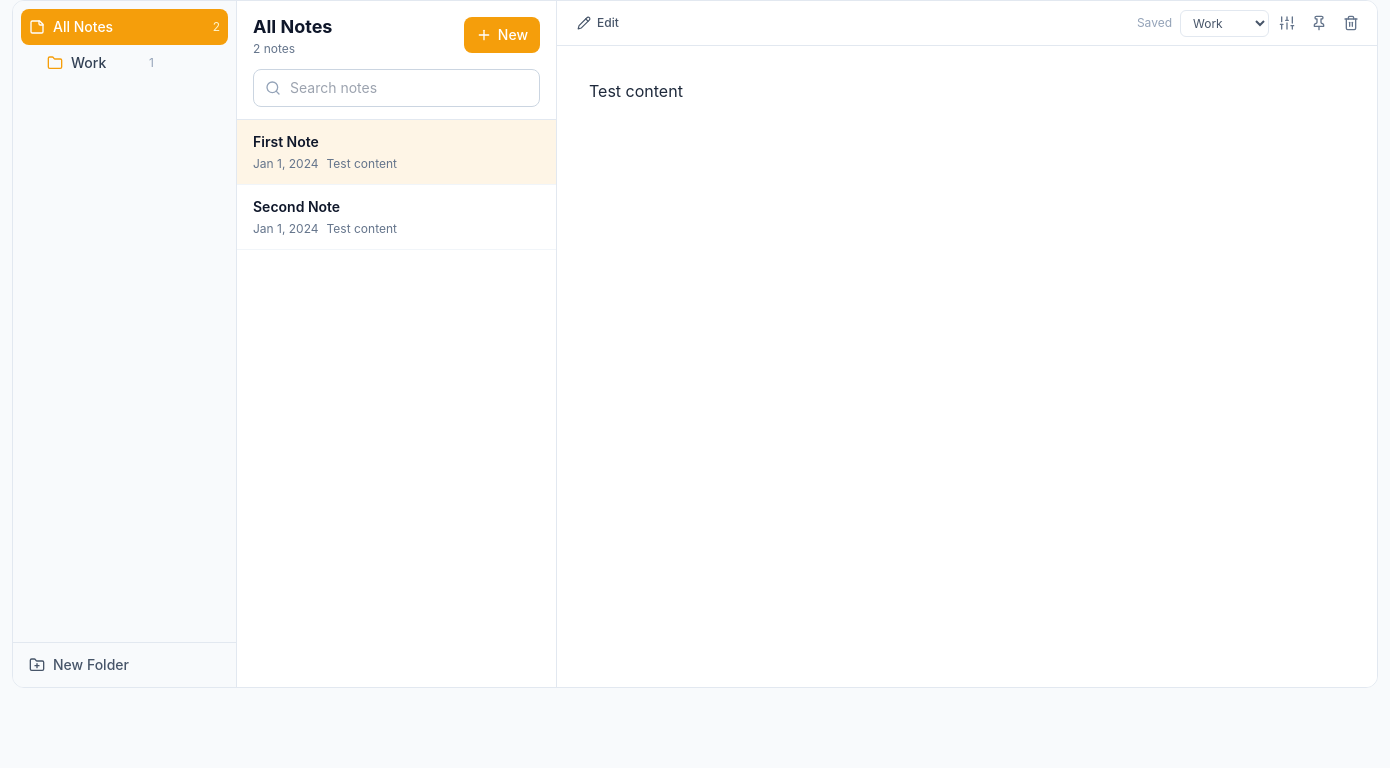
Scenario: Notes page › should render markdown in preview mode
This screenshot has width=1390, height=768.
Step 1. Click the button "Edit" → (598, 23), box [569,9,627,37]
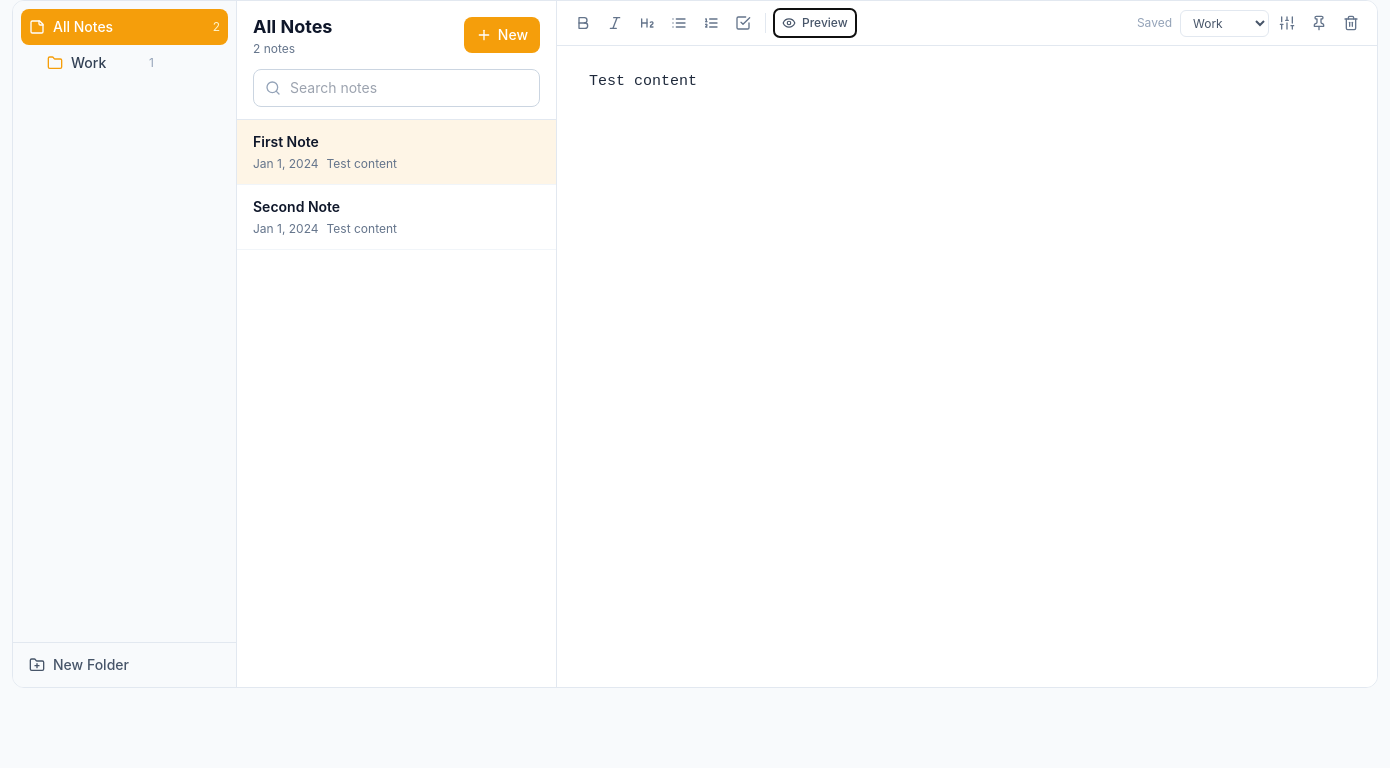
Step 2. Replace the text in the text box named "Note content" with "# Heading" → (967, 366), box [557,46,1377,687]
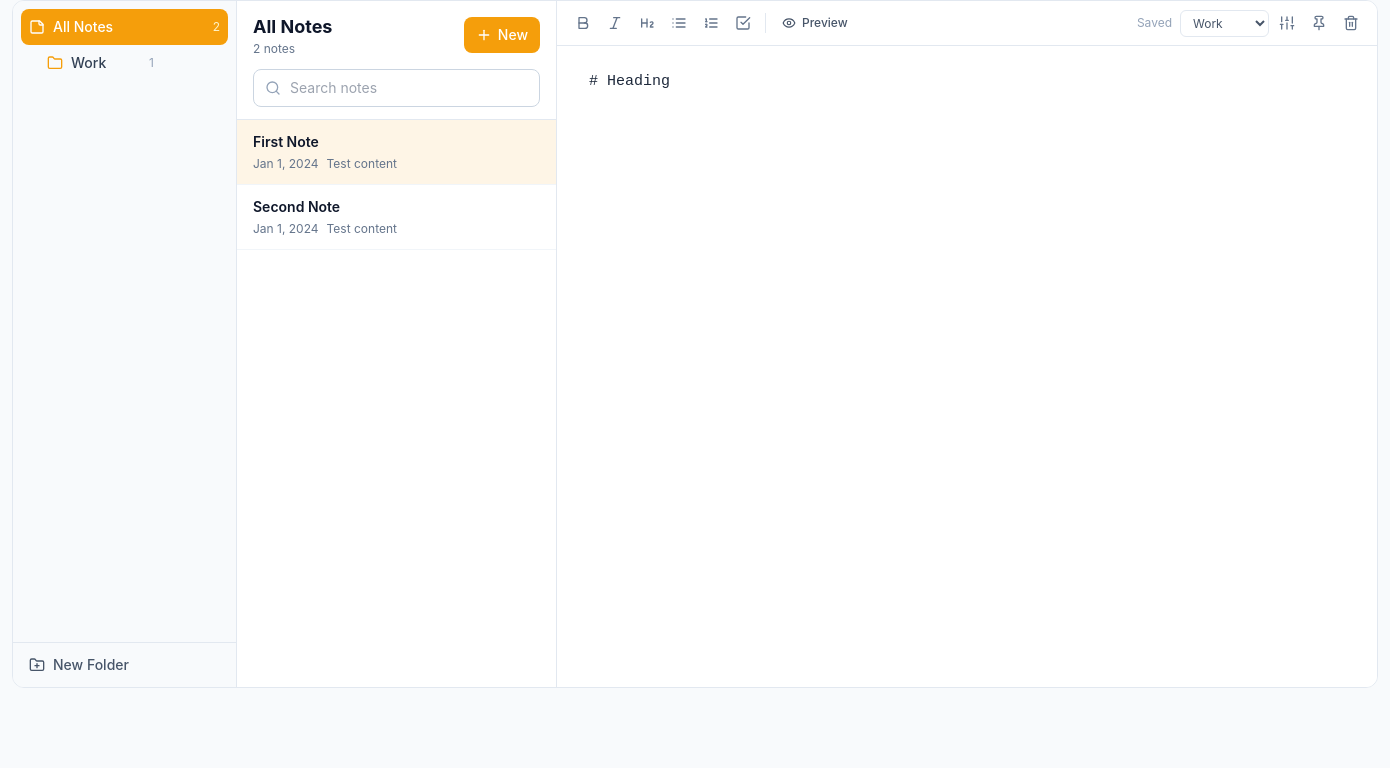
Step 3. Click the button "Preview" → (815, 23), box [774,9,856,37]
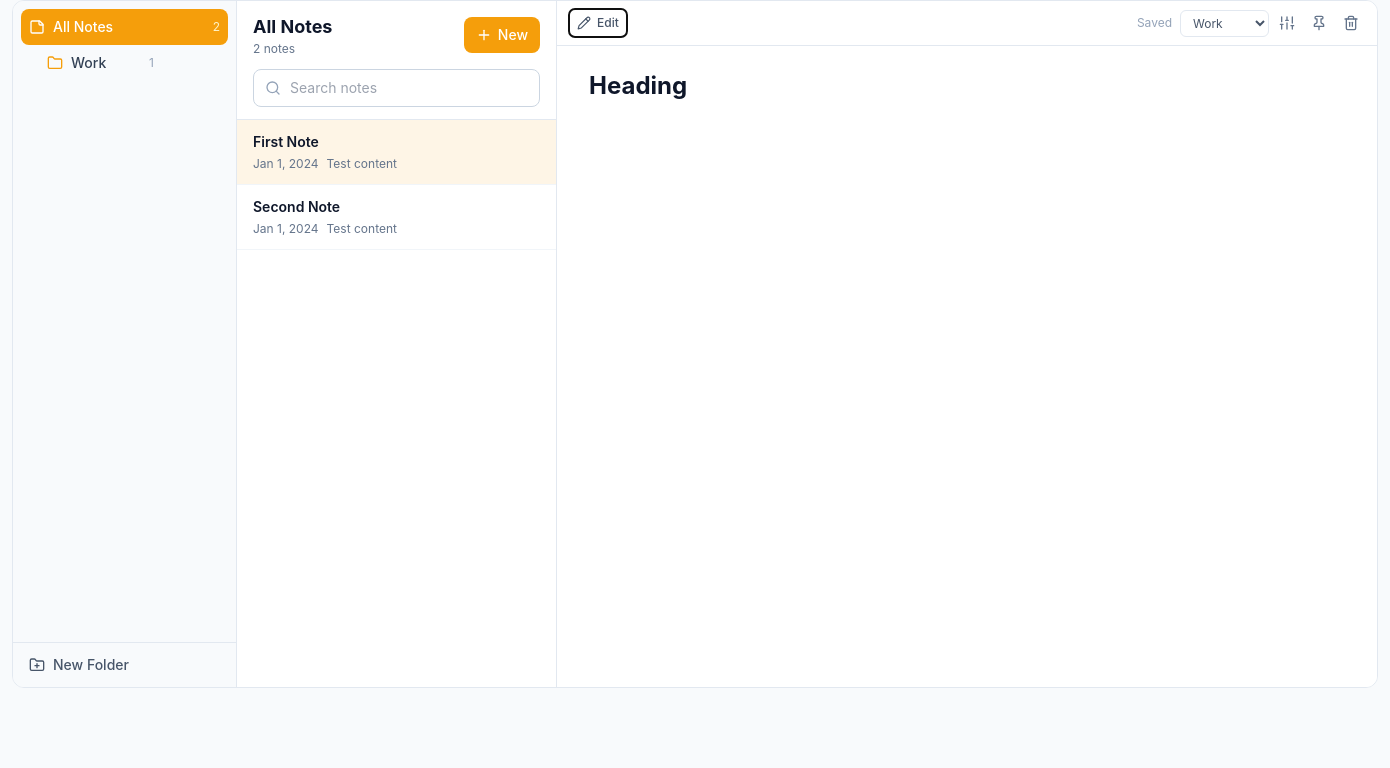
Expected: the heading "Heading" is shown, [589,71,687,100]
